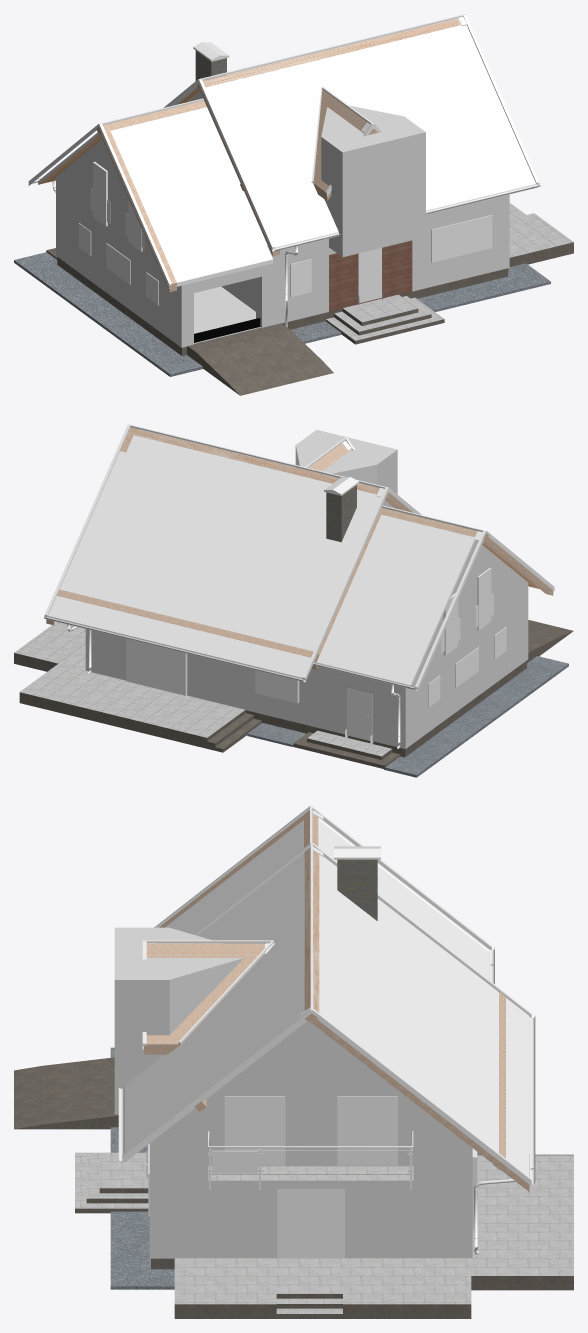
File: apartment_2.glb
3 renders of one model, top to bottom at view 1: azimuth 30°, elevation 25°; view 2: azimuth 150°, elevation 25°; view 3: azimuth 270°, elevation 25°, orthographic. The views are drawn at different scales.
Visible parts, largest first — view 1: Cube.013, Walls, Cube.014, fundament, roof_bool, Plane, Plane.001, CTRL_Hole.012, Cube.010, Plane.003, Cube.017, Cube.007 (+10 smaller); view 2: Cube.013, Walls, fundament, Cube.014, Plane, roof_bool, Plane.001, CTRL_Hole.008, Cube.011, Cube.010, Plane.003, Cube.019 (+9 smaller); view 3: Cube.013, Walls, fundament, roof_bool, Cube.014, Plane.001, CTRL_Hole, CTRL_Hole.001, Plane, CTRL_Hole.002, Cube.018, Cube.010 (+9 smaller).
Part boxes in pixels (bbox=[...]): Cube.013: bbox=[172, 25, 536, 250]; Walls: bbox=[56, 92, 509, 347]; Cube.014: bbox=[38, 107, 273, 286]; fundament: bbox=[46, 203, 573, 395]; roof_bool: bbox=[321, 105, 425, 257]; Plane: bbox=[14, 252, 550, 376]; Plane.001: bbox=[163, 14, 539, 251]; CTRL_Hole.012: bbox=[431, 215, 492, 262]; Cube.010: bbox=[197, 18, 460, 90]; Plane.003: bbox=[28, 98, 203, 288]; Cube.017: bbox=[313, 89, 372, 201]; Cube.007: bbox=[100, 124, 176, 292]; Cube.013: bbox=[48, 435, 380, 677]; Walls: bbox=[85, 500, 528, 748]; fundament: bbox=[14, 620, 573, 769]; Cube.014: bbox=[316, 514, 539, 688]; Plane: bbox=[247, 656, 568, 777]; roof_bool: bbox=[295, 429, 397, 494]; Plane.001: bbox=[44, 424, 421, 682]; CTRL_Hole.008: bbox=[126, 639, 187, 695]; Cube.011: bbox=[57, 589, 319, 661]; Cube.010: bbox=[127, 427, 390, 498]; Plane.003: bbox=[382, 505, 554, 691]; Cube.019: bbox=[326, 485, 356, 542]; Cube.013: bbox=[124, 853, 529, 1176]; Walls: bbox=[149, 1021, 472, 1258]; fundament: bbox=[14, 1057, 573, 1318]; roof_bool: bbox=[114, 927, 243, 1114]; Cube.014: bbox=[165, 820, 488, 979]; Plane.001: bbox=[122, 843, 531, 1185]; CTRL_Hole: bbox=[277, 1189, 344, 1257]; CTRL_Hole.001: bbox=[337, 1096, 397, 1164]; Plane: bbox=[110, 1047, 480, 1289]; CTRL_Hole.002: bbox=[224, 1096, 285, 1164]; Cube.018: bbox=[144, 943, 264, 1054]; Cube.010: bbox=[304, 847, 319, 1023].
Size of the model in its own units: 18.3 by 9.15 by 16.11.
35 materials, 10 textured.
